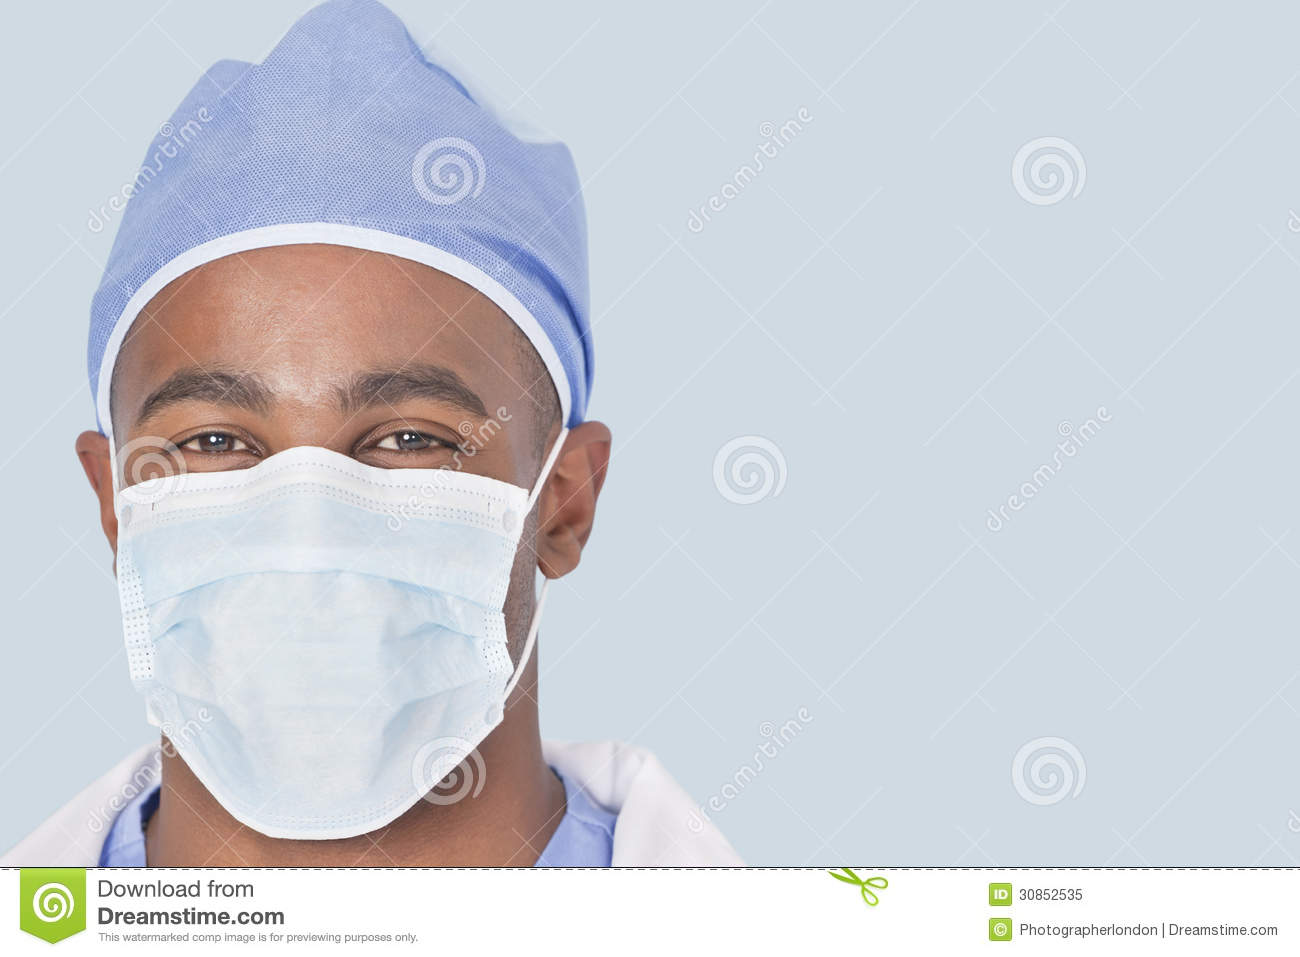mask: (83, 455, 560, 832)
